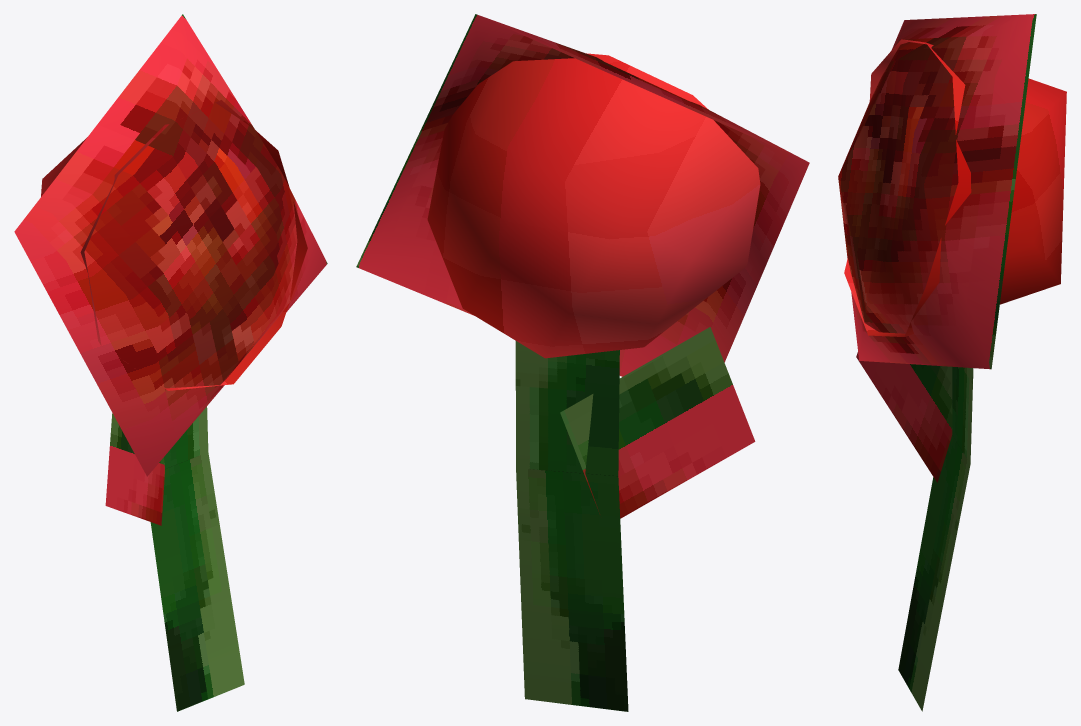
Rendered from flw_rose_rd_acc.dae.
3 renders of one model, left to right at view 1: azimuth 30°, elevation 25°; view 2: azimuth 150°, elevation 25°; view 3: azimuth 270°, elevation 25°, orthographic. The views are drawn at different scales.
Parts seen in each view (by area): view 1: flw_rose_rd_acc; view 2: flw_rose_rd_acc; view 3: flw_rose_rd_acc.
Boxes of the visible parts, bbox=[...] form: flw_rose_rd_acc: bbox=[14, 14, 327, 711]; flw_rose_rd_acc: bbox=[356, 14, 809, 711]; flw_rose_rd_acc: bbox=[838, 14, 1066, 711].
Size of the model in its own units: 10.66 by 18.3 by 5.47.
1 material, 1 textured.
